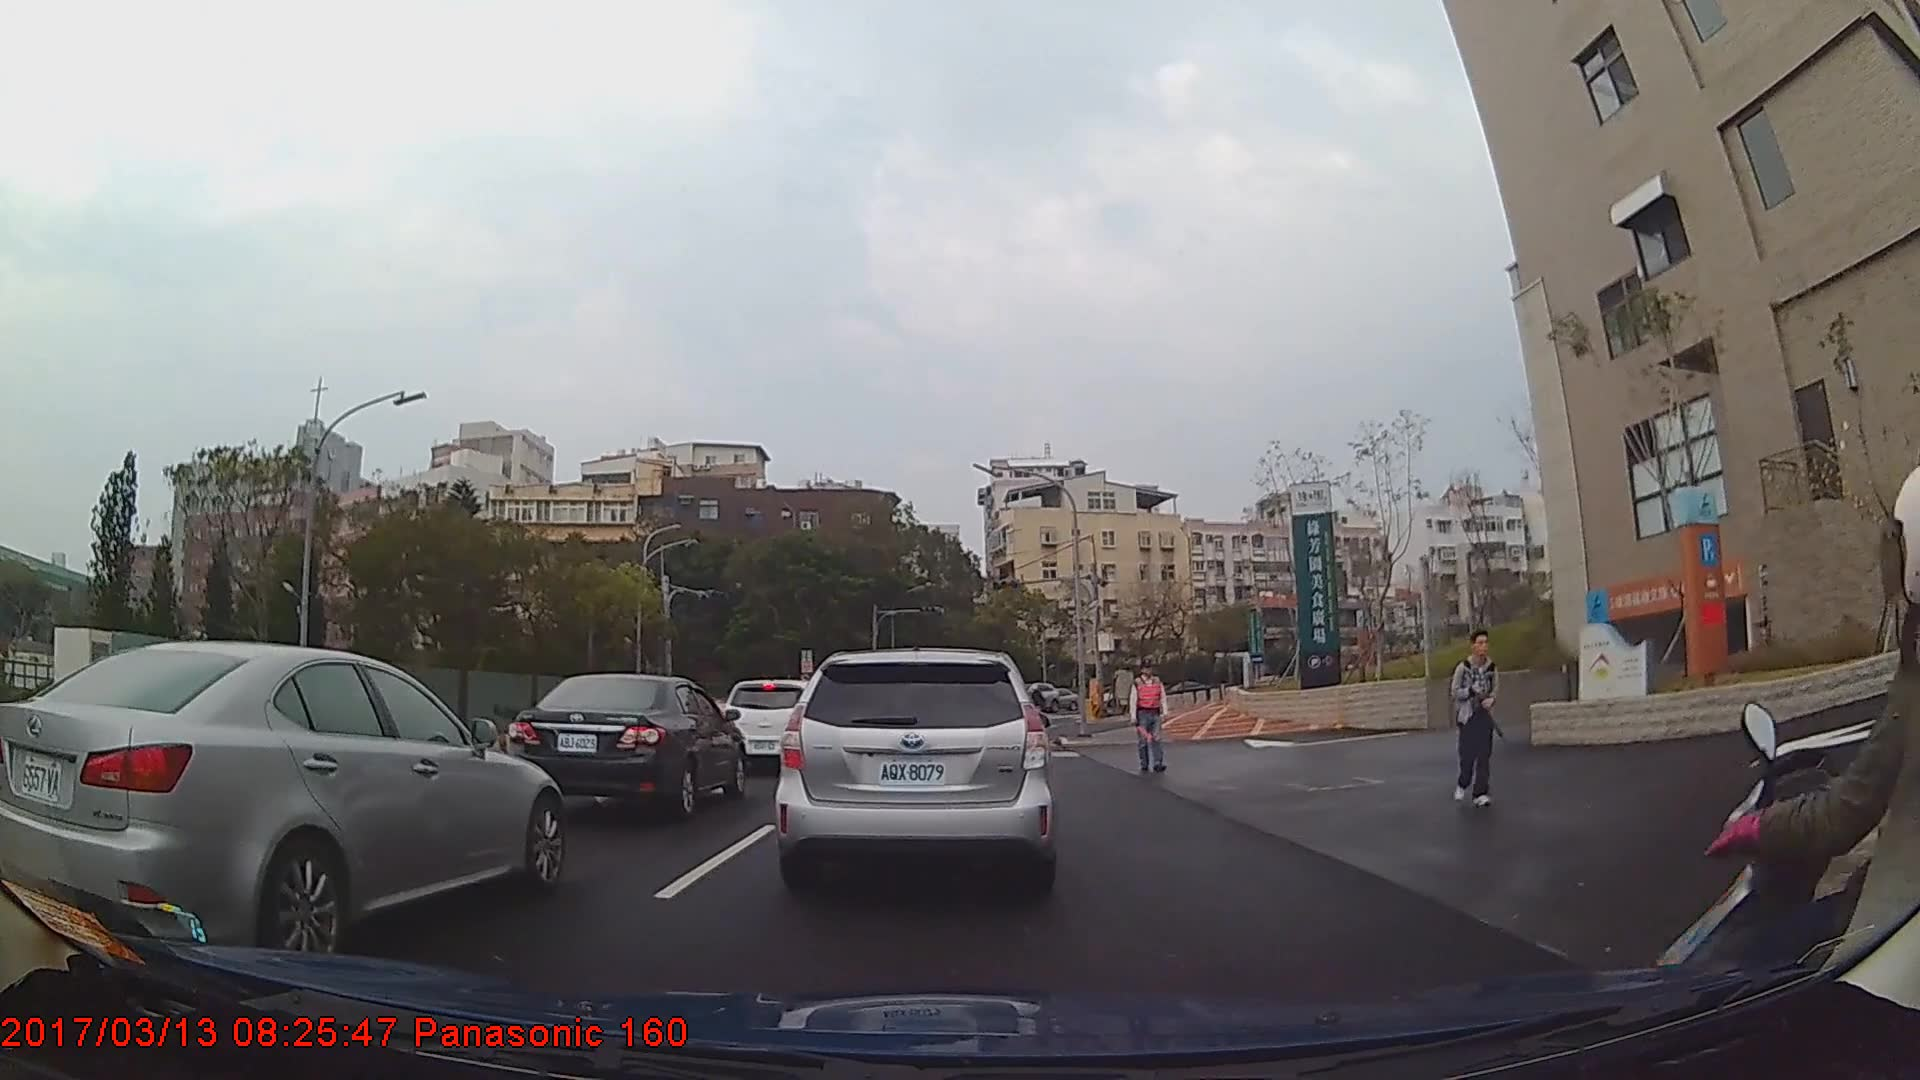pedestrian: (1449, 632, 1503, 809), (1134, 661, 1174, 776)
rider: (1653, 470, 1920, 1080)
vehicle: (0, 639, 562, 971), (773, 649, 1056, 901), (507, 672, 747, 817), (721, 677, 825, 769), (1041, 687, 1081, 716)
